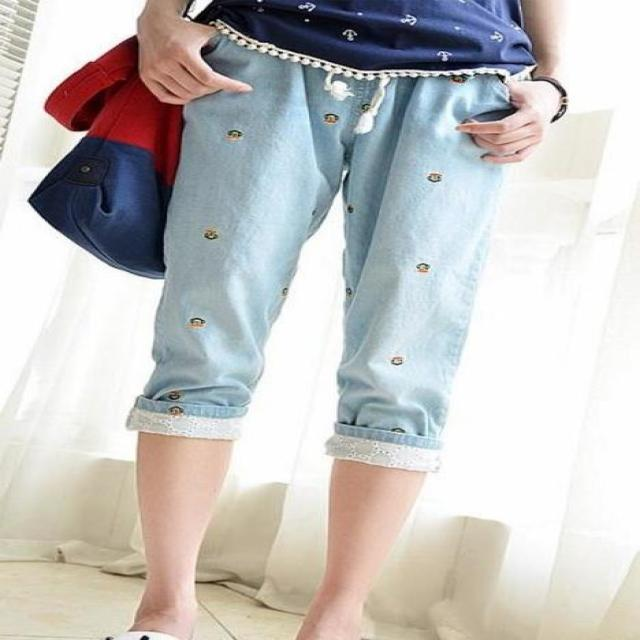trousers: (120, 12, 502, 538)
